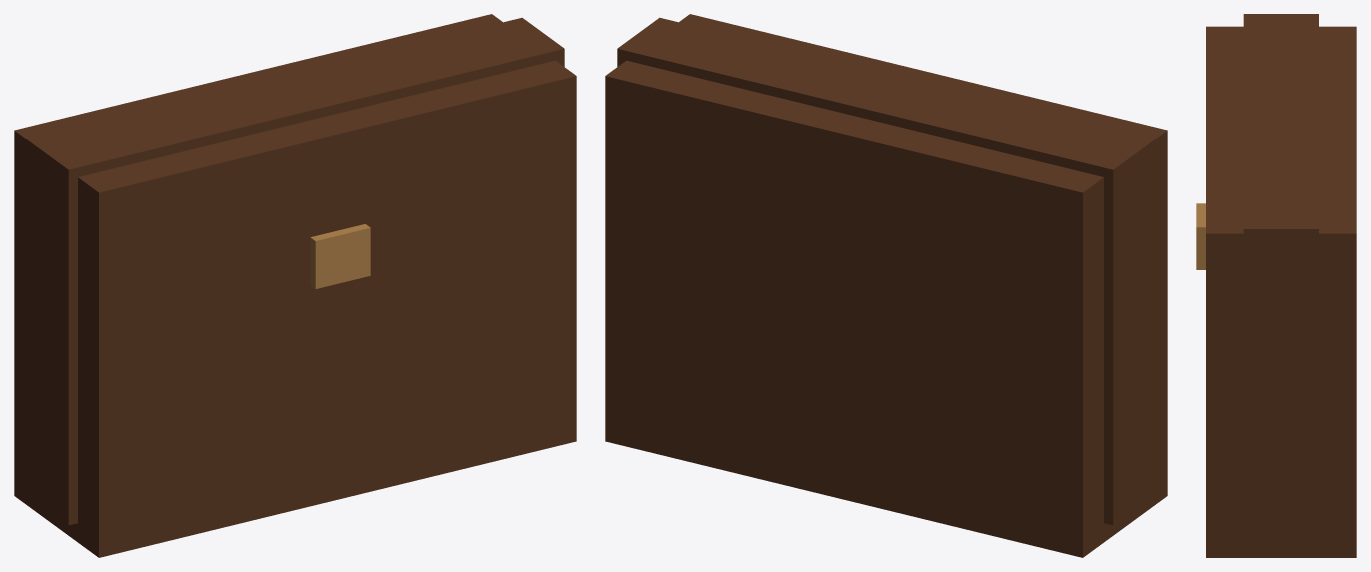
File: ammo_satchel_leather.glb
3 renders of one model, left to right at view 1: azimuth 30°, elevation 25°; view 2: azimuth 150°, elevation 25°; view 3: azimuth 270°, elevation 25°, orthographic. The views are drawn at different scales.
Visible parts, largest first — view 1: ammo_satchel_leather:compound; view 2: ammo_satchel_leather:compound; view 3: ammo_satchel_leather:compound.
Part boxes in pixels (x1,y1,x2,y2): ammo_satchel_leather:compound: [14, 14, 576, 557]; ammo_satchel_leather:compound: [605, 14, 1167, 557]; ammo_satchel_leather:compound: [1196, 14, 1356, 557].
Size of the model in its own units: 0.216 by 0.156 by 0.068.
